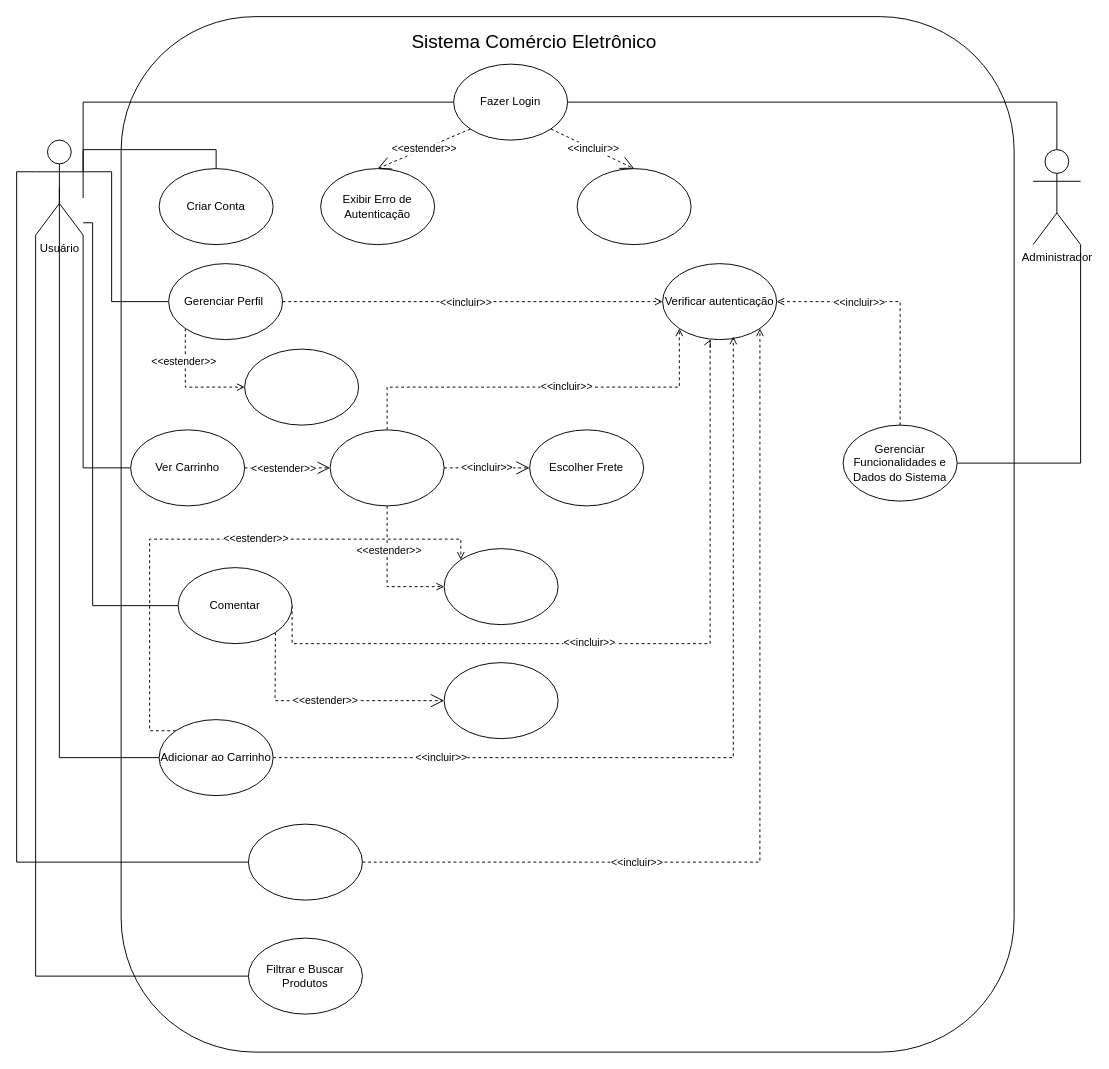
Some shapes in this 1109 by 1069 pixel diagram are drawn without their labels. The box of each missing label's shape, as (x1, y1, x2, y2) in pixels:
Exibir Erro de Comentário: (443, 662, 558, 739)
Exibir Erro de Pedido: (443, 548, 558, 625)
Favoritar: (247, 823, 362, 900)
Fazer Pedido: (329, 429, 444, 506)
Gerenciar Endereços: (244, 348, 359, 425)
Verificar Login: (576, 168, 691, 245)
